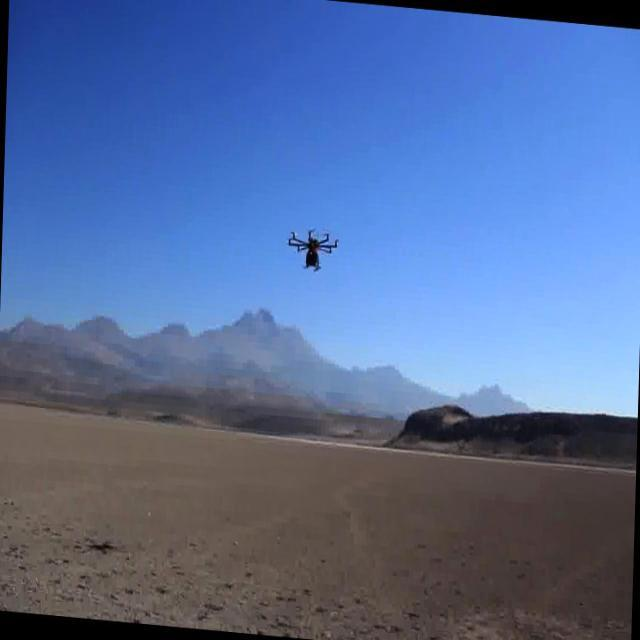drone: (284, 222, 342, 277)
